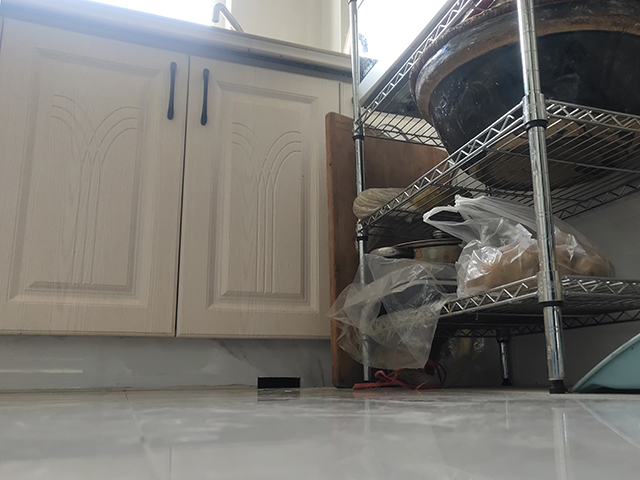cabinet: (1, 1, 331, 382)
